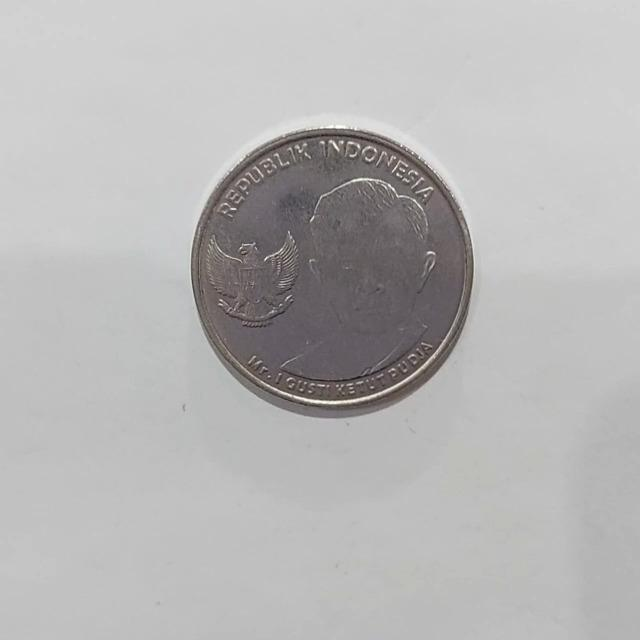Rp100: (188, 121, 475, 417)
